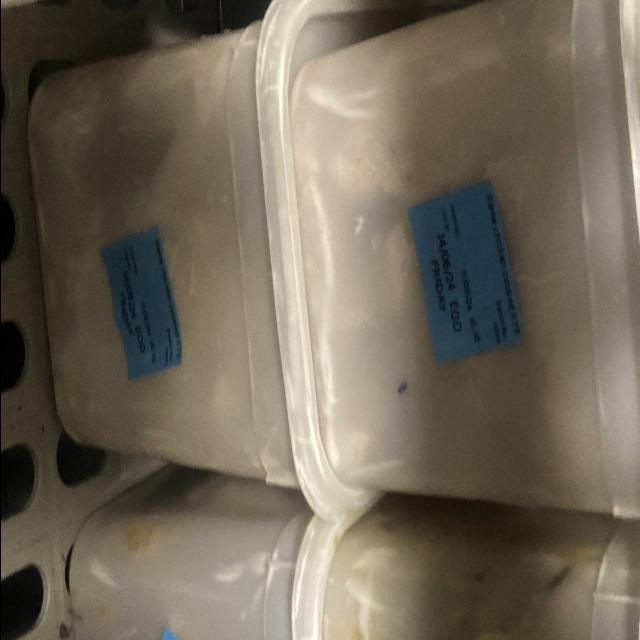product-labels: (398, 182, 526, 366), (96, 228, 188, 381)
